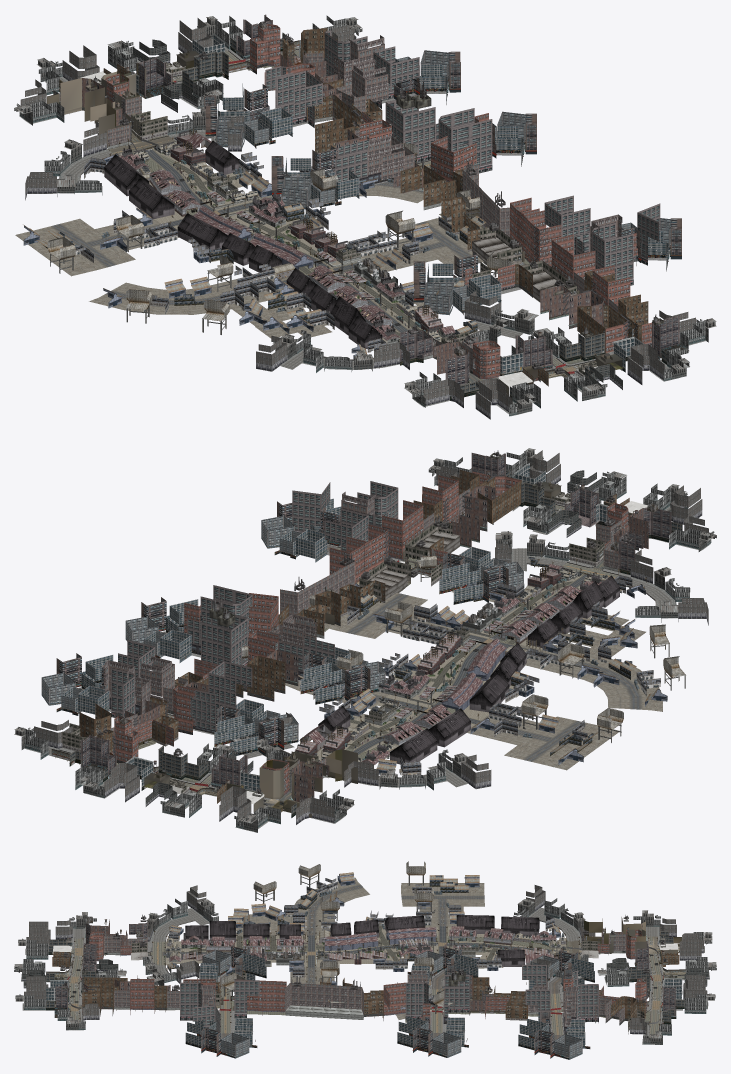
File: city.glb
3 renders of one model, top to bottom at view 1: azimuth 30°, elevation 25°; view 2: azimuth 150°, elevation 25°; view 3: azimuth 270°, elevation 25°, orthographic. The views are drawn at different scales.
Visible parts, largest first — view 1: backdrop_grp_004_mdl_003_sub_000_material_099_0_35, backdrop_grp_006_mdl_002_sub_000_material_098_0_45, backdrop_grp_005_mdl_002_sub_000_material_098_0_40, backdrop_grp_003_mdl_003_sub_000_material_099_0_28, backdrop_grp_004_mdl_001_sub_000_material_099_0_31, backdrop_grp_000_mdl_004_sub_000_material_097_0_7, backdrop_grp_002_mdl_002_sub_000_material_098_0_21, backdrop_grp_003_mdl_001_sub_000_material_099_0_24, backdrop_grp_007_mdl_002_sub_000_material_100_0_50, backdrop_grp_000_mdl_006_sub_000_material_097_0_11, backdrop_grp_001_mdl_002_sub_000_material_098_0_16, backdrop_grp_000_mdl_005_sub_000_material_097_0_9 (+48 smaller); view 2: backdrop_grp_004_mdl_003_sub_000_material_099_0_35, backdrop_grp_003_mdl_003_sub_000_material_099_0_28, backdrop_grp_005_mdl_002_sub_000_material_098_0_40, backdrop_grp_006_mdl_002_sub_000_material_098_0_45, backdrop_grp_004_mdl_001_sub_000_material_099_0_31, backdrop_grp_002_mdl_002_sub_000_material_098_0_21, backdrop_grp_000_mdl_004_sub_000_material_097_0_7, backdrop_grp_000_mdl_006_sub_000_material_097_0_11, backdrop_grp_000_mdl_001_sub_000_material_097_0_1, backdrop_grp_001_mdl_002_sub_000_material_098_0_16, backdrop_grp_000_mdl_005_sub_000_material_097_0_9, backdrop_grp_000_mdl_003_sub_000_material_097_0_5 (+44 smaller); view 3: backdrop_grp_004_mdl_003_sub_000_material_099_0_35, backdrop_grp_005_mdl_002_sub_000_material_098_0_40, backdrop_grp_003_mdl_003_sub_000_material_099_0_28, backdrop_grp_006_mdl_002_sub_000_material_098_0_45, backdrop_grp_000_mdl_001_sub_000_material_097_0_1, backdrop_grp_000_mdl_003_sub_000_material_097_0_5, backdrop_grp_002_mdl_002_sub_000_material_098_0_21, backdrop_grp_000_mdl_002_sub_000_material_097_0_3, backdrop_grp_001_mdl_002_sub_000_material_098_0_16, backdrop_grp_000_mdl_006_sub_000_material_097_0_11, backdrop_grp_000_mdl_005_sub_000_material_097_0_9, backdrop_grp_003_mdl_001_sub_000_material_099_0_24 (+39 smaller).
Boxes of the visible parts, x1=… form: backdrop_grp_004_mdl_003_sub_000_material_099_0_35: x1=89, y1=255, x2=331, y2=338; backdrop_grp_006_mdl_002_sub_000_material_098_0_45: x1=404, y1=327, x2=689, y2=419; backdrop_grp_005_mdl_002_sub_000_material_098_0_40: x1=14, y1=16, x2=242, y2=125; backdrop_grp_003_mdl_003_sub_000_material_099_0_28: x1=15, y1=207, x2=233, y2=276; backdrop_grp_004_mdl_001_sub_000_material_099_0_31: x1=348, y1=189, x2=511, y2=287; backdrop_grp_000_mdl_004_sub_000_material_097_0_7: x1=204, y1=83, x2=292, y2=148; backdrop_grp_002_mdl_002_sub_000_material_098_0_21: x1=256, y1=329, x2=485, y2=372; backdrop_grp_003_mdl_001_sub_000_material_099_0_24: x1=233, y1=136, x2=430, y2=229; backdrop_grp_007_mdl_002_sub_000_material_100_0_50: x1=47, y1=63, x2=174, y2=153; backdrop_grp_000_mdl_006_sub_000_material_097_0_11: x1=413, y1=250, x2=501, y2=315; backdrop_grp_001_mdl_002_sub_000_material_098_0_16: x1=25, y1=119, x2=181, y2=200; backdrop_grp_000_mdl_005_sub_000_material_097_0_9: x1=271, y1=145, x2=359, y2=209; backdrop_grp_004_mdl_003_sub_000_material_099_0_35: x1=525, y1=606, x2=685, y2=711; backdrop_grp_003_mdl_003_sub_000_material_099_0_28: x1=467, y1=671, x2=623, y2=770; backdrop_grp_005_mdl_002_sub_000_material_098_0_40: x1=75, y1=743, x2=354, y2=832; backdrop_grp_006_mdl_002_sub_000_material_098_0_45: x1=506, y1=448, x2=716, y2=551; backdrop_grp_004_mdl_001_sub_000_material_099_0_31: x1=309, y1=548, x2=483, y2=644; backdrop_grp_002_mdl_002_sub_000_material_098_0_21: x1=526, y1=545, x2=708, y2=625; backdrop_grp_000_mdl_004_sub_000_material_097_0_7: x1=214, y1=699, x2=298, y2=755; backdrop_grp_000_mdl_006_sub_000_material_097_0_11: x1=439, y1=546, x2=523, y2=604; backdrop_grp_000_mdl_001_sub_000_material_097_0_1: x1=41, y1=653, x2=113, y2=715; backdrop_grp_001_mdl_002_sub_000_material_098_0_16: x1=283, y1=749, x2=491, y2=790; backdrop_grp_000_mdl_005_sub_000_material_097_0_9: x1=298, y1=647, x2=385, y2=741; backdrop_grp_000_mdl_003_sub_000_material_097_0_5: x1=125, y1=597, x2=203, y2=662; backdrop_grp_004_mdl_003_sub_000_material_099_0_35: x1=228, y1=864, x2=369, y2=935; backdrop_grp_005_mdl_002_sub_000_material_098_0_40: x1=597, y1=910, x2=716, y2=1013; backdrop_grp_003_mdl_003_sub_000_material_099_0_28: x1=365, y1=861, x2=484, y2=929; backdrop_grp_006_mdl_002_sub_000_material_098_0_45: x1=14, y1=912, x2=126, y2=1010; backdrop_grp_000_mdl_001_sub_000_material_097_0_1: x1=518, y1=1011, x2=590, y2=1059; backdrop_grp_000_mdl_003_sub_000_material_097_0_5: x1=397, y1=1009, x2=468, y2=1057; backdrop_grp_002_mdl_002_sub_000_material_098_0_21: x1=137, y1=885, x2=218, y2=974; backdrop_grp_000_mdl_002_sub_000_material_097_0_3: x1=185, y1=1018, x2=257, y2=1058; backdrop_grp_001_mdl_002_sub_000_material_098_0_16: x1=513, y1=885, x2=595, y2=961; backdrop_grp_000_mdl_006_sub_000_material_097_0_11: x1=197, y1=943, x2=266, y2=988; backdrop_grp_000_mdl_005_sub_000_material_097_0_9: x1=407, y1=943, x2=478, y2=989; backdrop_grp_003_mdl_001_sub_000_material_099_0_24: x1=373, y1=952, x2=501, y2=1019.
Bounding box in the file's own units: 14.65 × 2.16 × 23.9.
100 materials, 99 textured.
